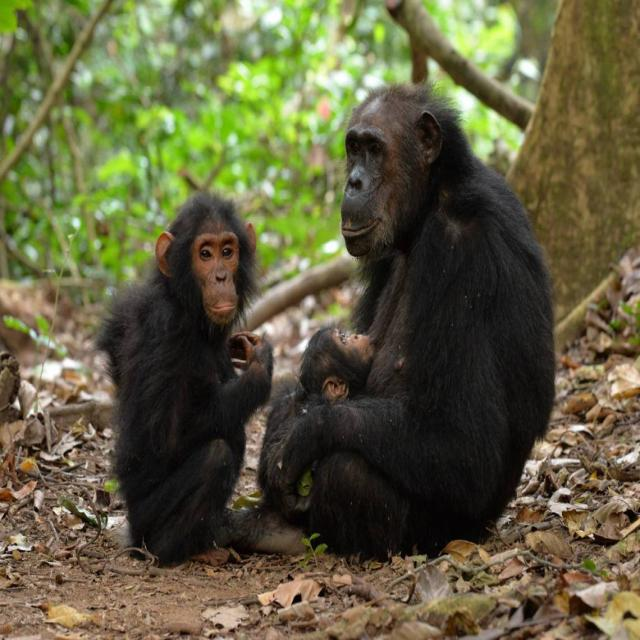Chimpanzee: (263, 87, 551, 546), (95, 190, 268, 565)
